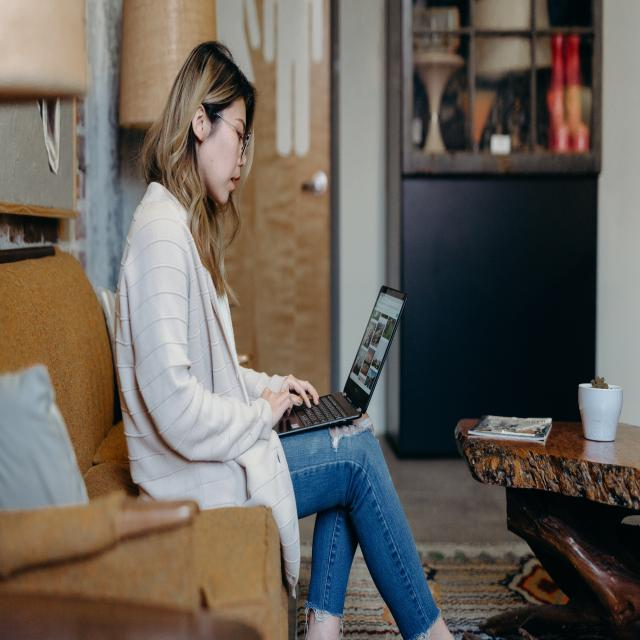nonfall: (125, 33, 466, 620)
